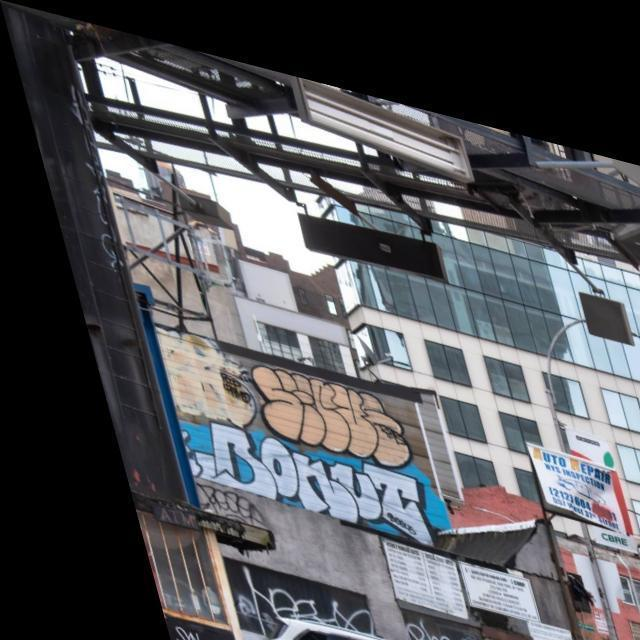nonspitting: (178, 418, 437, 546), (251, 363, 413, 467), (66, 88, 131, 271), (235, 566, 376, 640), (156, 326, 258, 428), (197, 480, 266, 528), (172, 625, 200, 640)
